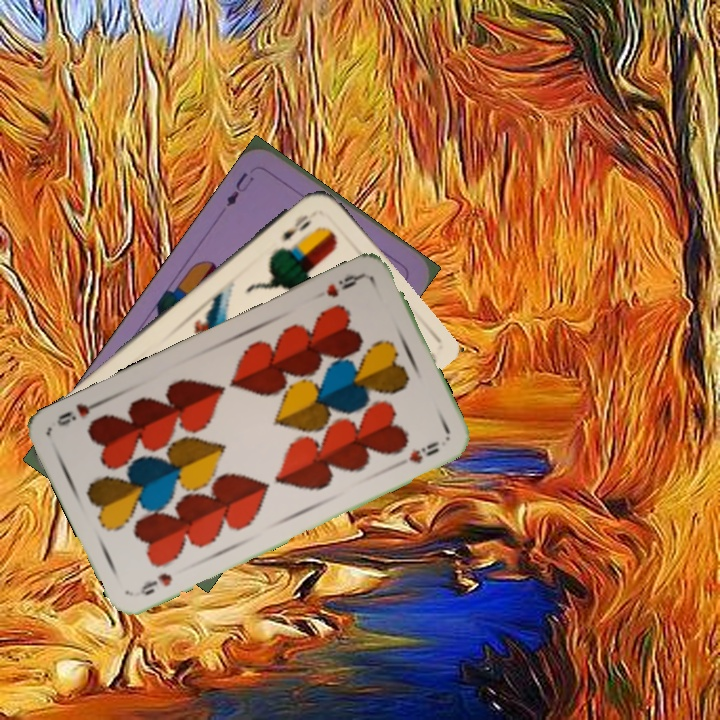EO: (278, 210, 315, 244)
EU: (222, 168, 257, 210)
H9: (322, 270, 366, 300), (136, 569, 175, 598)
